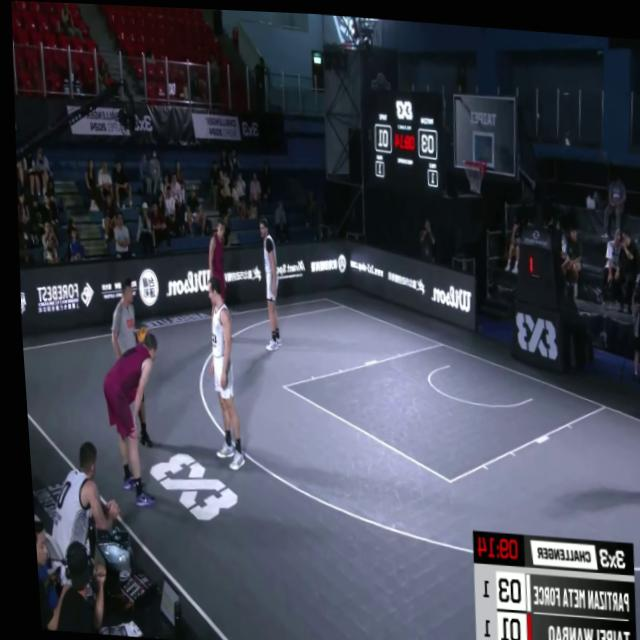ball: (132, 322, 154, 351)
hoop: (460, 153, 484, 194)
player: (88, 323, 162, 509), (196, 272, 245, 468), (253, 212, 283, 350), (201, 216, 226, 303)
